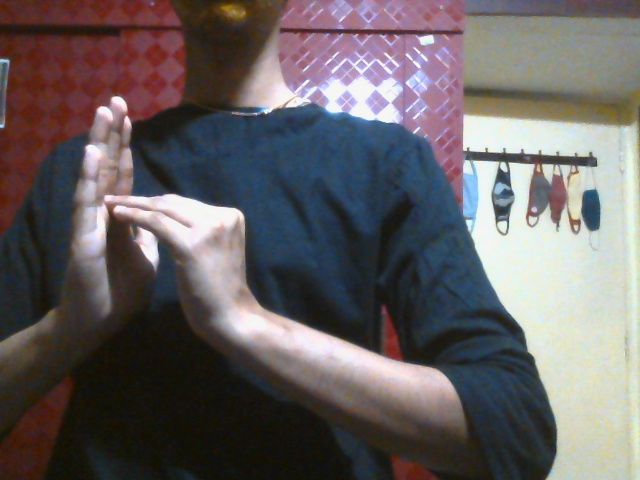Z: (45, 95, 259, 370)
